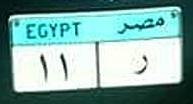1: (57, 51, 72, 84), (35, 52, 49, 82)
raa: (128, 52, 151, 78)
